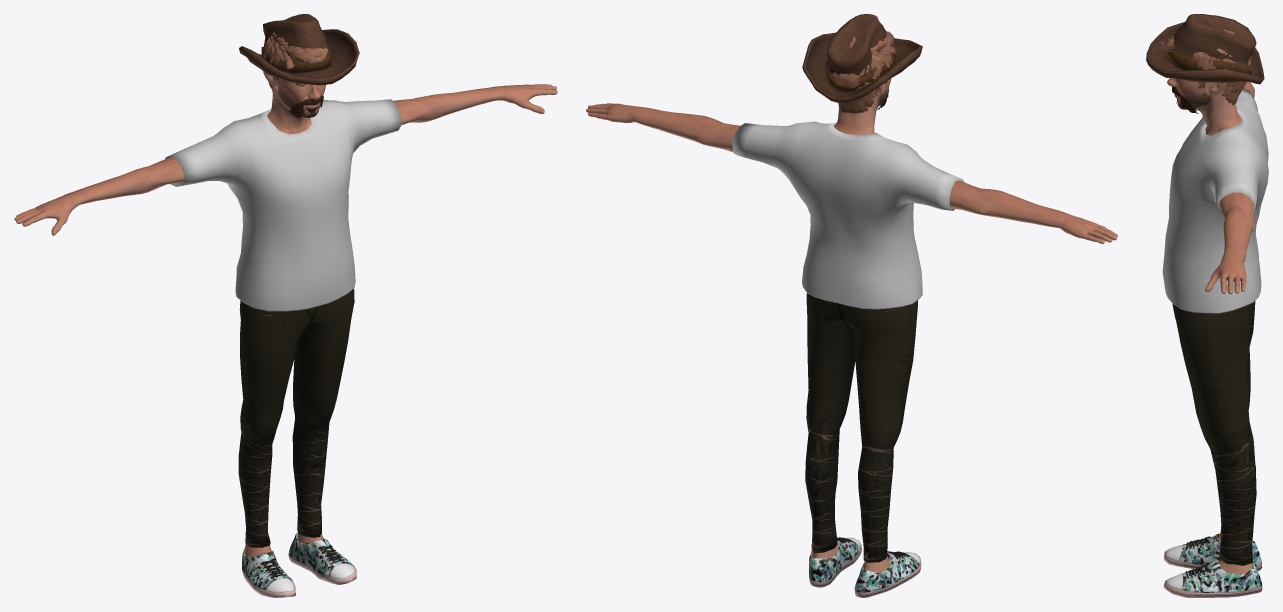
The picture shows the model from 3 angles, left to right: view 1: azimuth 30°, elevation 25°; view 2: azimuth 150°, elevation 25°; view 3: azimuth 270°, elevation 25°; orthographic projection. The views are drawn at different scales.
Parts seen in each view (by area): view 1: Tops, Bottoms, Body, Hats, Shoes, Hair; view 2: Tops, Bottoms, Body, Hats, Shoes, Hair; view 3: Tops, Bottoms, Hats, Body, Shoes, Hair, Moustaches.
Part boxes in pixels (bbox=[...]): Tops: bbox=[165, 99, 401, 311]; Bottoms: bbox=[238, 289, 354, 547]; Body: bbox=[14, 71, 557, 557]; Hats: bbox=[239, 14, 359, 85]; Shoes: bbox=[242, 532, 356, 597]; Hair: bbox=[262, 32, 328, 91]; Tops: bbox=[732, 121, 964, 309]; Bottoms: bbox=[805, 293, 917, 562]; Body: bbox=[586, 78, 1117, 572]; Hats: bbox=[802, 14, 922, 103]; Shoes: bbox=[809, 537, 921, 597]; Hair: bbox=[832, 30, 897, 113]; Tops: bbox=[1162, 88, 1268, 313]; Bottoms: bbox=[1172, 301, 1256, 565]; Hats: bbox=[1146, 14, 1264, 84]; Body: bbox=[1167, 78, 1255, 573]; Shoes: bbox=[1163, 533, 1262, 597]; Hair: bbox=[1161, 29, 1251, 105]; Moustaches: bbox=[1172, 86, 1198, 113].
Size of the model in its own units: 196 by 195 by 38.65.
